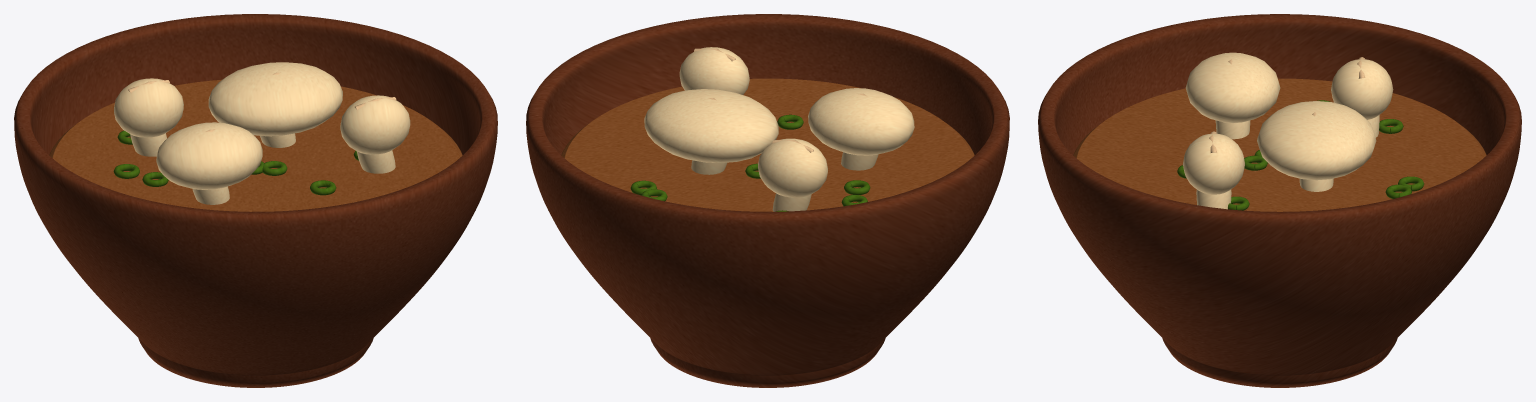
File: 04-mushroom-dashi.glb
The picture shows the model from 3 angles, left to right: view 1: azimuth 30°, elevation 25°; view 2: azimuth 150°, elevation 25°; view 3: azimuth 270°, elevation 25°; orthographic projection.
Visible parts, largest first — view 1: Warm earthenware, Radish ivory, Amber dashi, Fresh leaf; view 2: Warm earthenware, Amber dashi, Radish ivory, Fresh leaf; view 3: Warm earthenware, Amber dashi, Radish ivory, Fresh leaf.
Part boxes in pixels (x1=…): Warm earthenware: x1=14, y1=14, x2=497, y2=387; Radish ivory: x1=114, y1=62, x2=410, y2=204; Amber dashi: x1=49, y1=79, x2=462, y2=211; Fresh leaf: x1=113, y1=130, x2=358, y2=195; Warm earthenware: x1=526, y1=14, x2=1009, y2=387; Amber dashi: x1=561, y1=78, x2=974, y2=211; Radish ivory: x1=644, y1=47, x2=914, y2=211; Fresh leaf: x1=630, y1=114, x2=870, y2=211; Warm earthenware: x1=1038, y1=14, x2=1521, y2=387; Amber dashi: x1=1073, y1=78, x2=1486, y2=211; Radish ivory: x1=1183, y1=52, x2=1393, y2=209; Fresh leaf: x1=1177, y1=100, x2=1424, y2=210.
Size of the model in its own units: 0.033 by 0.0185 by 0.033.
5 materials, 5 textured.
